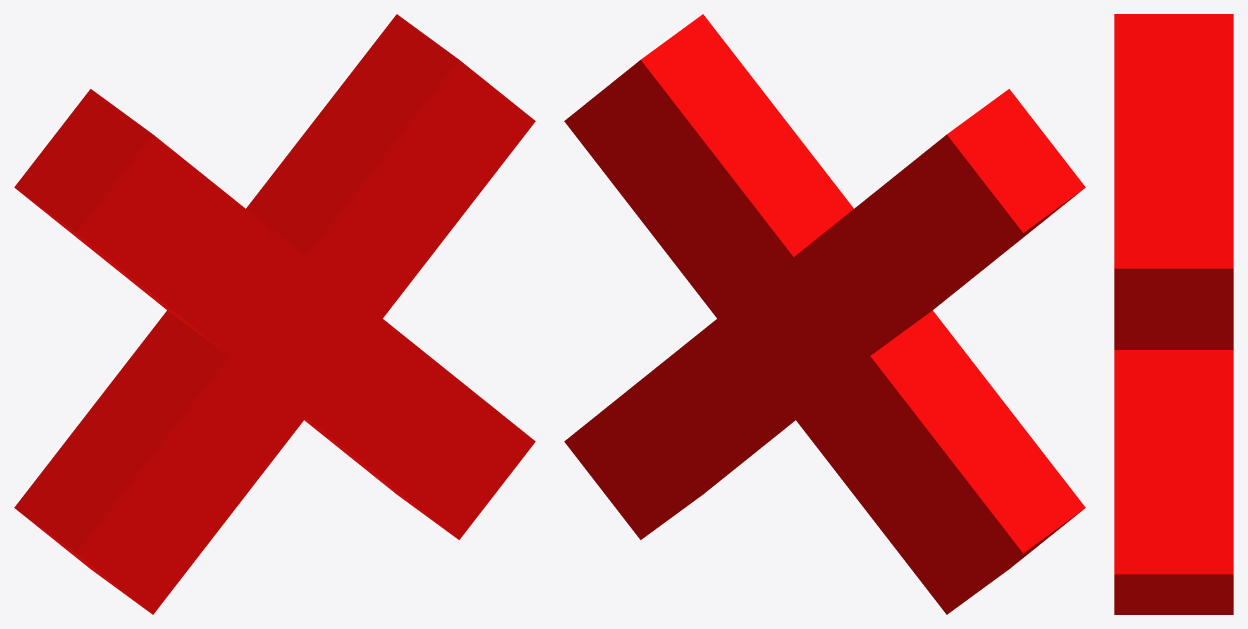
The model's file is epe_deprecated.dae.
The picture shows the model from 3 angles, left to right: view 1: azimuth 30°, elevation 25°; view 2: azimuth 150°, elevation 25°; view 3: azimuth 270°, elevation 25°; orthographic projection. The views are drawn at different scales.
Visible parts, largest first — view 1: deprecated; view 2: deprecated; view 3: deprecated.
Boxes of the visible parts, x1,y1,x2,y2 form: deprecated: (14,14,535,614); deprecated: (564,14,1085,614); deprecated: (1114,14,1233,614).
Size of the model in its own units: 0.2121 by 0.05 by 0.2121.
